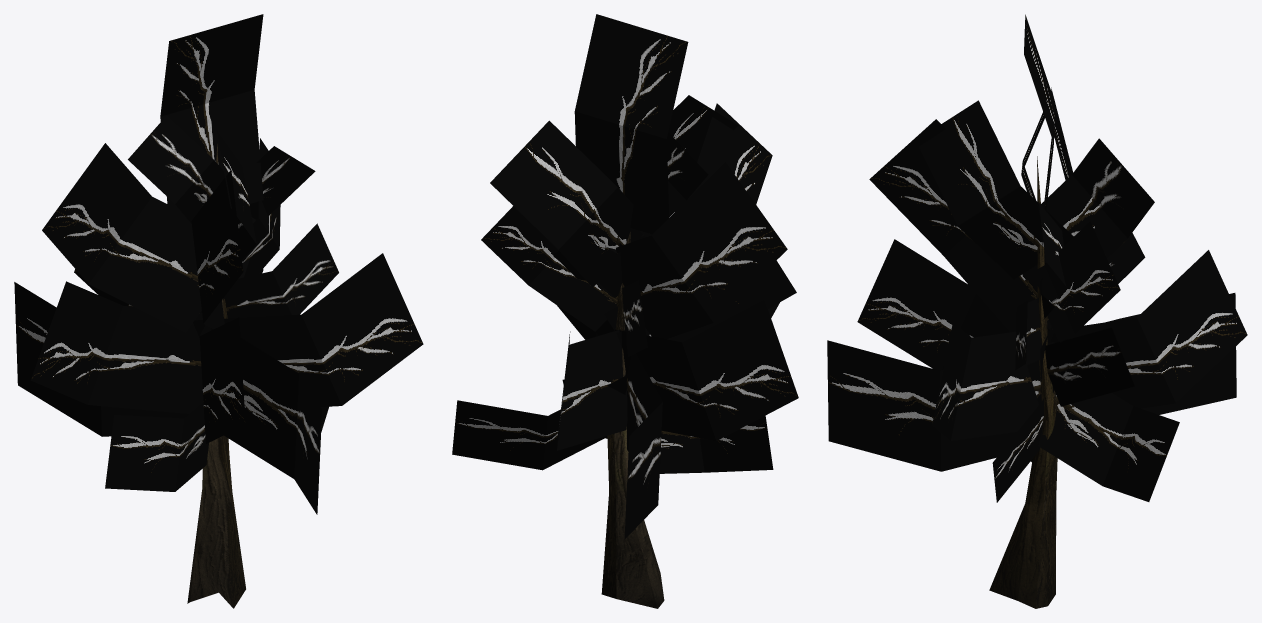
File: Snowy_Tree.obj
3 views of the same model, side by side, from view 1: azimuth 30°, elevation 25°; view 2: azimuth 150°, elevation 25°; view 3: azimuth 270°, elevation 25° (orthographic). The views are drawn at different scales.
Parts seen in each view (by area): view 1: Snowy_Tree_Cube.040_SnowyBranches, Snowy_Tree_Cube.040_PSX_tree; view 2: Snowy_Tree_Cube.040_SnowyBranches, Snowy_Tree_Cube.040_PSX_tree; view 3: Snowy_Tree_Cube.040_SnowyBranches, Snowy_Tree_Cube.040_PSX_tree.
Boxes of the visible parts, x1,y1,x2,y2 form: Snowy_Tree_Cube.040_SnowyBranches: [14, 14, 423, 514]; Snowy_Tree_Cube.040_PSX_tree: [187, 143, 245, 608]; Snowy_Tree_Cube.040_SnowyBranches: [452, 14, 798, 539]; Snowy_Tree_Cube.040_PSX_tree: [601, 232, 664, 608]; Snowy_Tree_Cube.040_SnowyBranches: [827, 14, 1247, 502]; Snowy_Tree_Cube.040_PSX_tree: [989, 156, 1057, 608].
Bounding box in the file's own units: 4.46 × 7.43 × 5.
